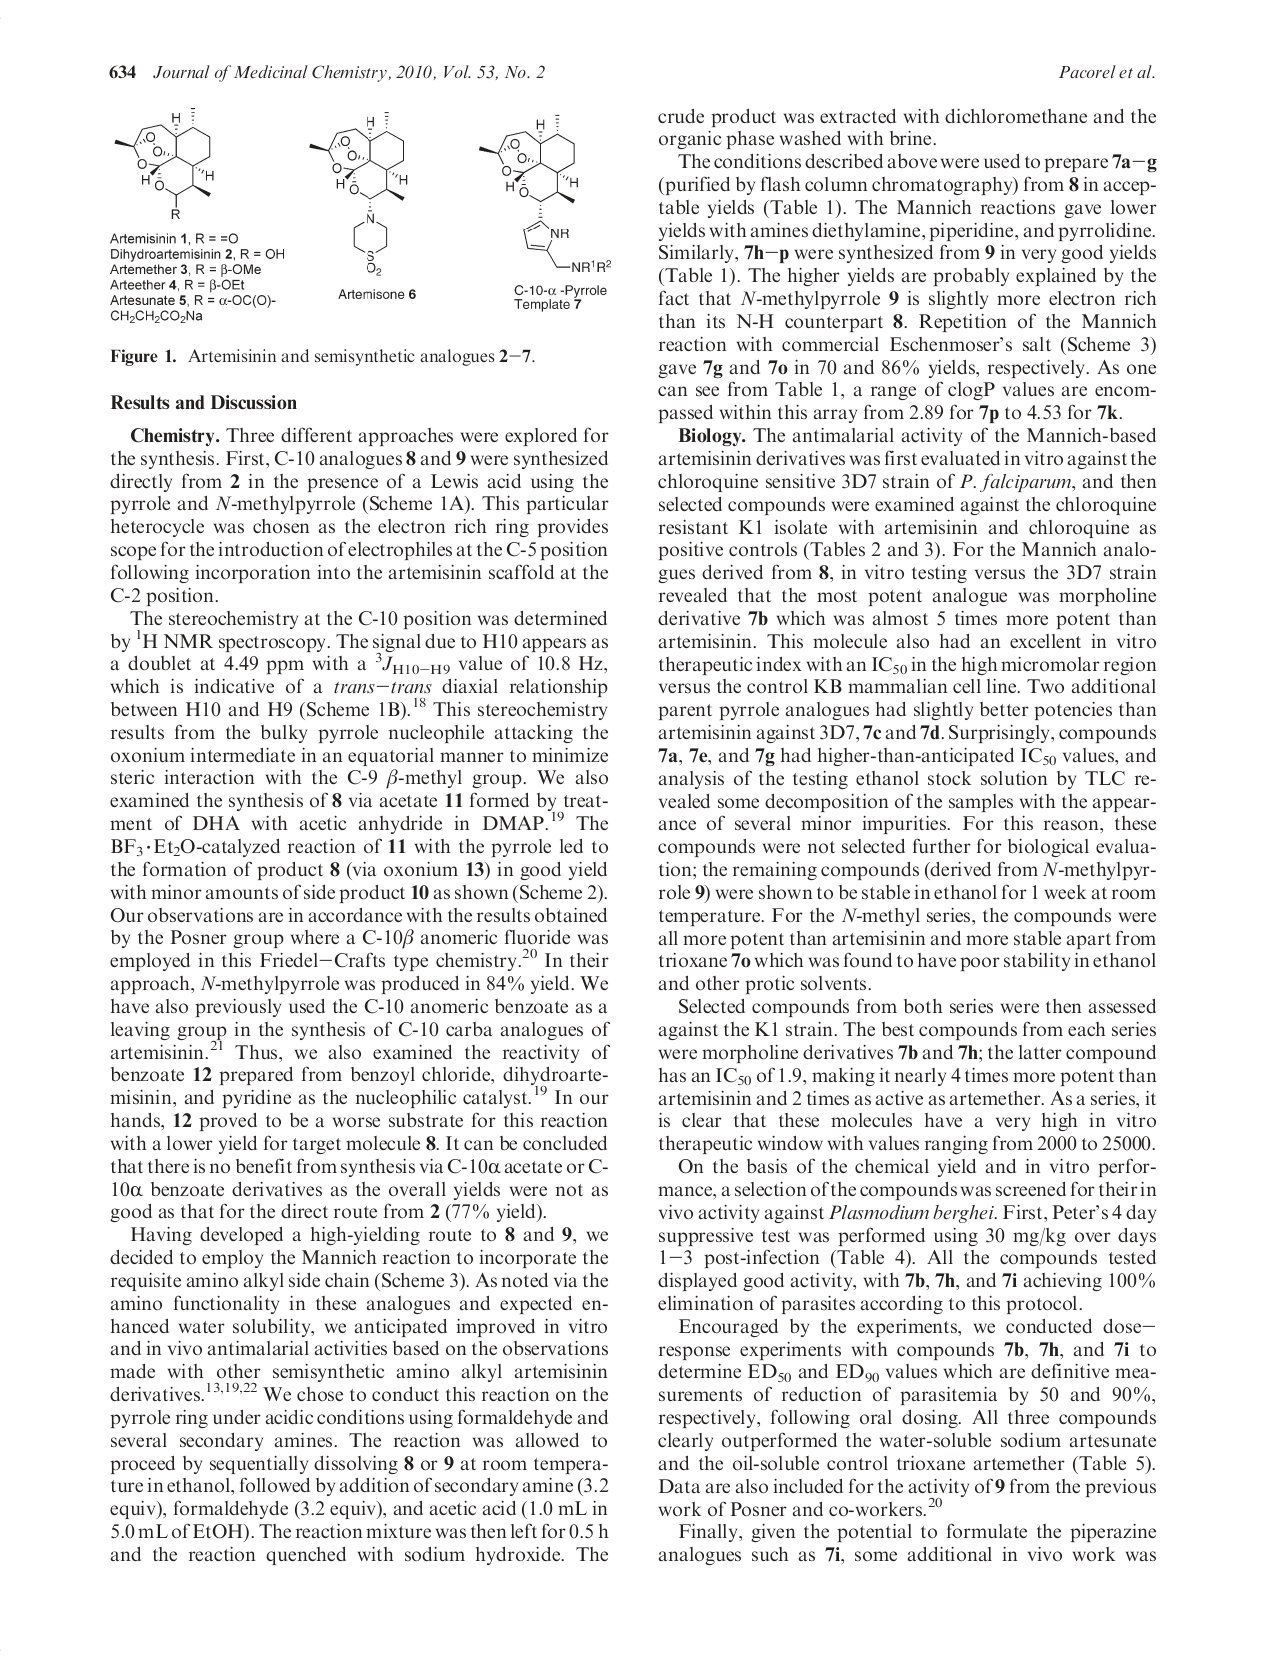exist_molecular: (477, 113, 613, 274), (309, 110, 410, 277), (113, 106, 215, 219)
